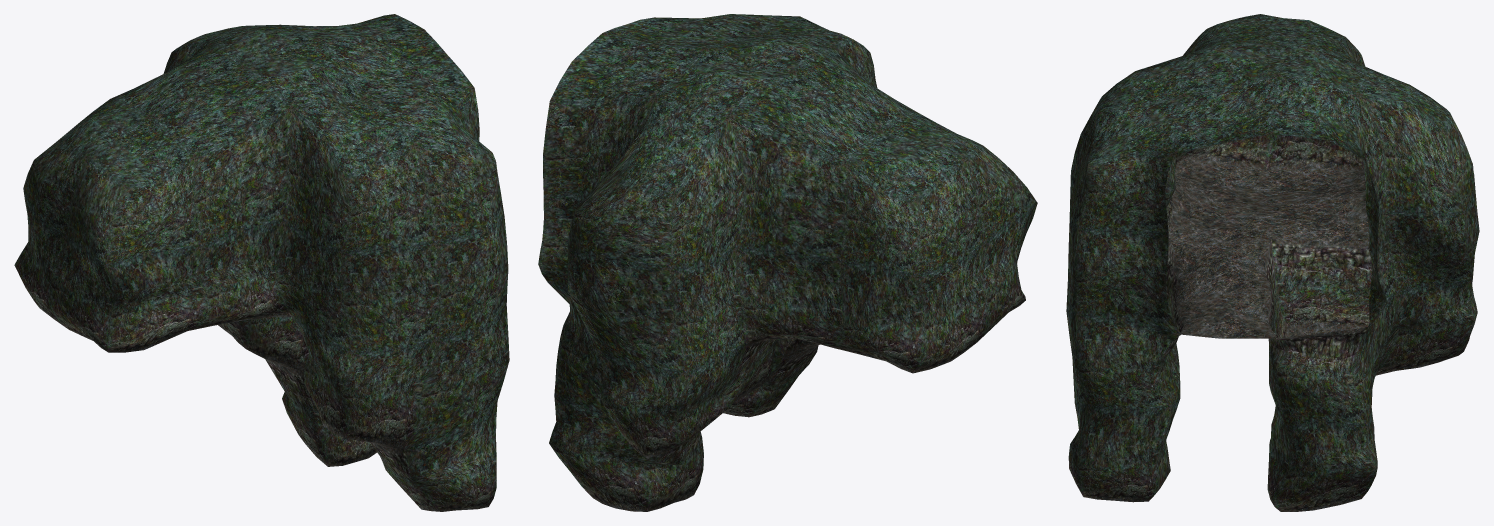
File: thm_all_cave_s02_damprock_mirror_r9_mesh_r9.fbx
3 views of the same model, side by side, from view 1: azimuth 30°, elevation 25°; view 2: azimuth 150°, elevation 25°; view 3: azimuth 270°, elevation 25° (orthographic). The views are drawn at different scales.
Visible parts, largest first — view 1: mesh_node; view 2: mesh_node; view 3: mesh_node.
Boxes of the visible parts, x1,y1,x2,y2 form: mesh_node: (14, 14, 509, 511); mesh_node: (538, 14, 1037, 511); mesh_node: (1066, 14, 1479, 511).
Size of the model in its own units: 41.15 by 45.08 by 40.79.
